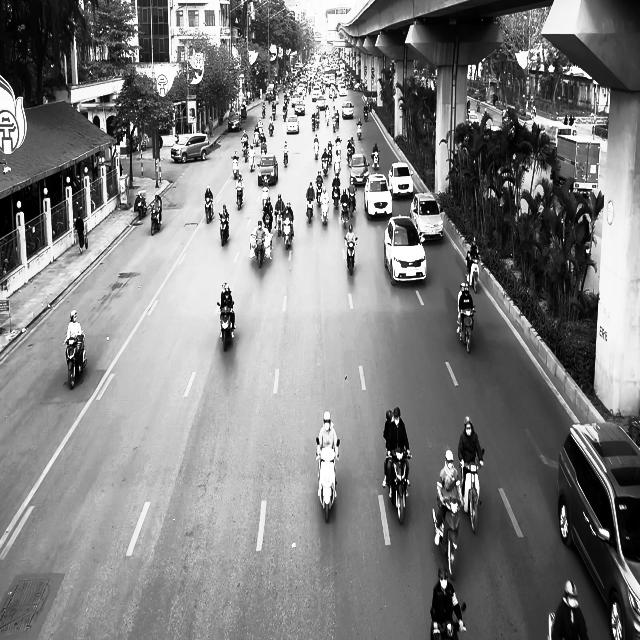car: (556, 420, 640, 640), (384, 216, 426, 286), (409, 192, 444, 242), (364, 173, 392, 219), (171, 133, 211, 163), (388, 162, 414, 198), (257, 154, 278, 186), (350, 153, 369, 185), (228, 112, 242, 132), (286, 115, 299, 134), (342, 100, 354, 118), (466, 111, 479, 127)
motorbike: (432, 497, 462, 579), (459, 447, 484, 534), (316, 438, 339, 522), (386, 448, 411, 524), (430, 603, 466, 639), (64, 333, 87, 389), (456, 307, 476, 354), (217, 301, 235, 351), (466, 254, 480, 292), (344, 238, 357, 276), (218, 212, 230, 246), (150, 203, 161, 236), (134, 191, 146, 219), (235, 180, 244, 210), (204, 198, 214, 223), (370, 150, 380, 170), (282, 148, 288, 167)
